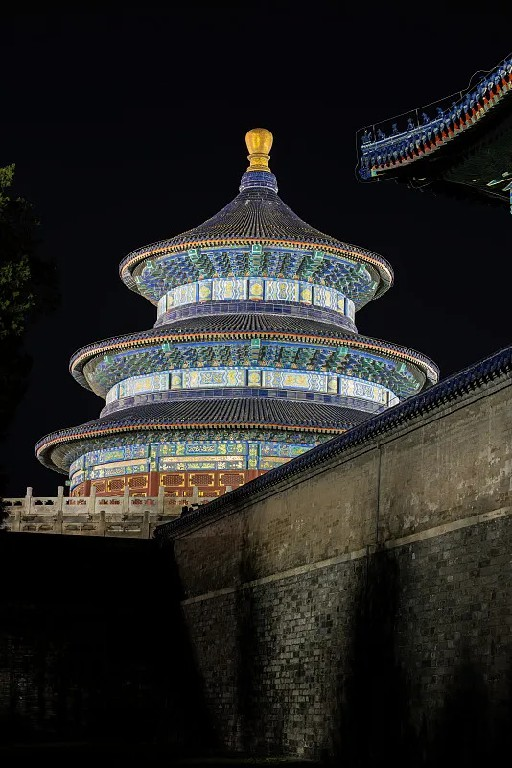Heaven: (32, 125, 438, 503)
